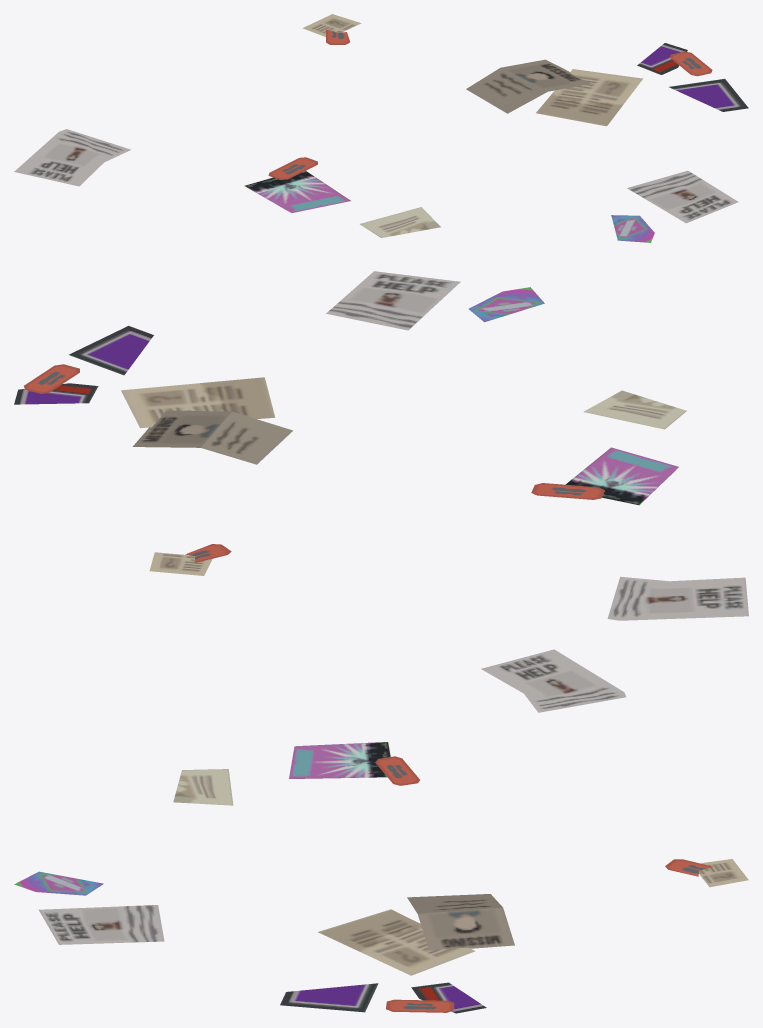
The model's file is SM_Prop_Papers_04.obj.
3 renders of one model, top to bottom at view 1: azimuth 30°, elevation 25°; view 2: azimuth 150°, elevation 25°; view 3: azimuth 270°, elevation 25°, orthographic. The views are drawn at different scales.
Visible parts, largest first — view 1: SM_Prop_Papers_04_0; view 2: SM_Prop_Papers_04_0; view 3: SM_Prop_Papers_04_0.
Boxes of the visible parts, x1,y1,x2,y2 form: SM_Prop_Papers_04_0: (14,14,748,242); SM_Prop_Papers_04_0: (14,271,748,620); SM_Prop_Papers_04_0: (14,649,748,1013).
Bounding box in the file's own units: 2.68 × 0.0345 × 2.3.
1 material, 1 textured.
